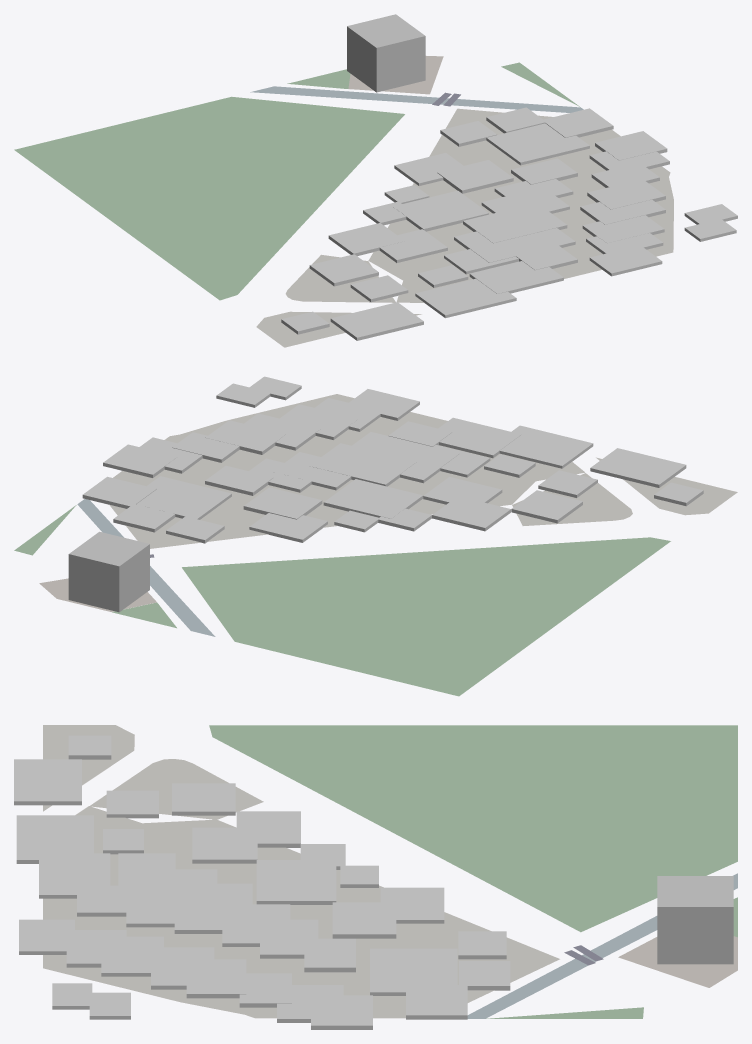
Rendered from 123_75_mid.glb.
3 views of the same model, one above another, from view 1: azimuth 30°, elevation 25°; view 2: azimuth 150°, elevation 25°; view 3: azimuth 270°, elevation 25° (orthographic). The views are drawn at different scales.
Bounding box in the file's own units: 520 × 45.57 × 521.
